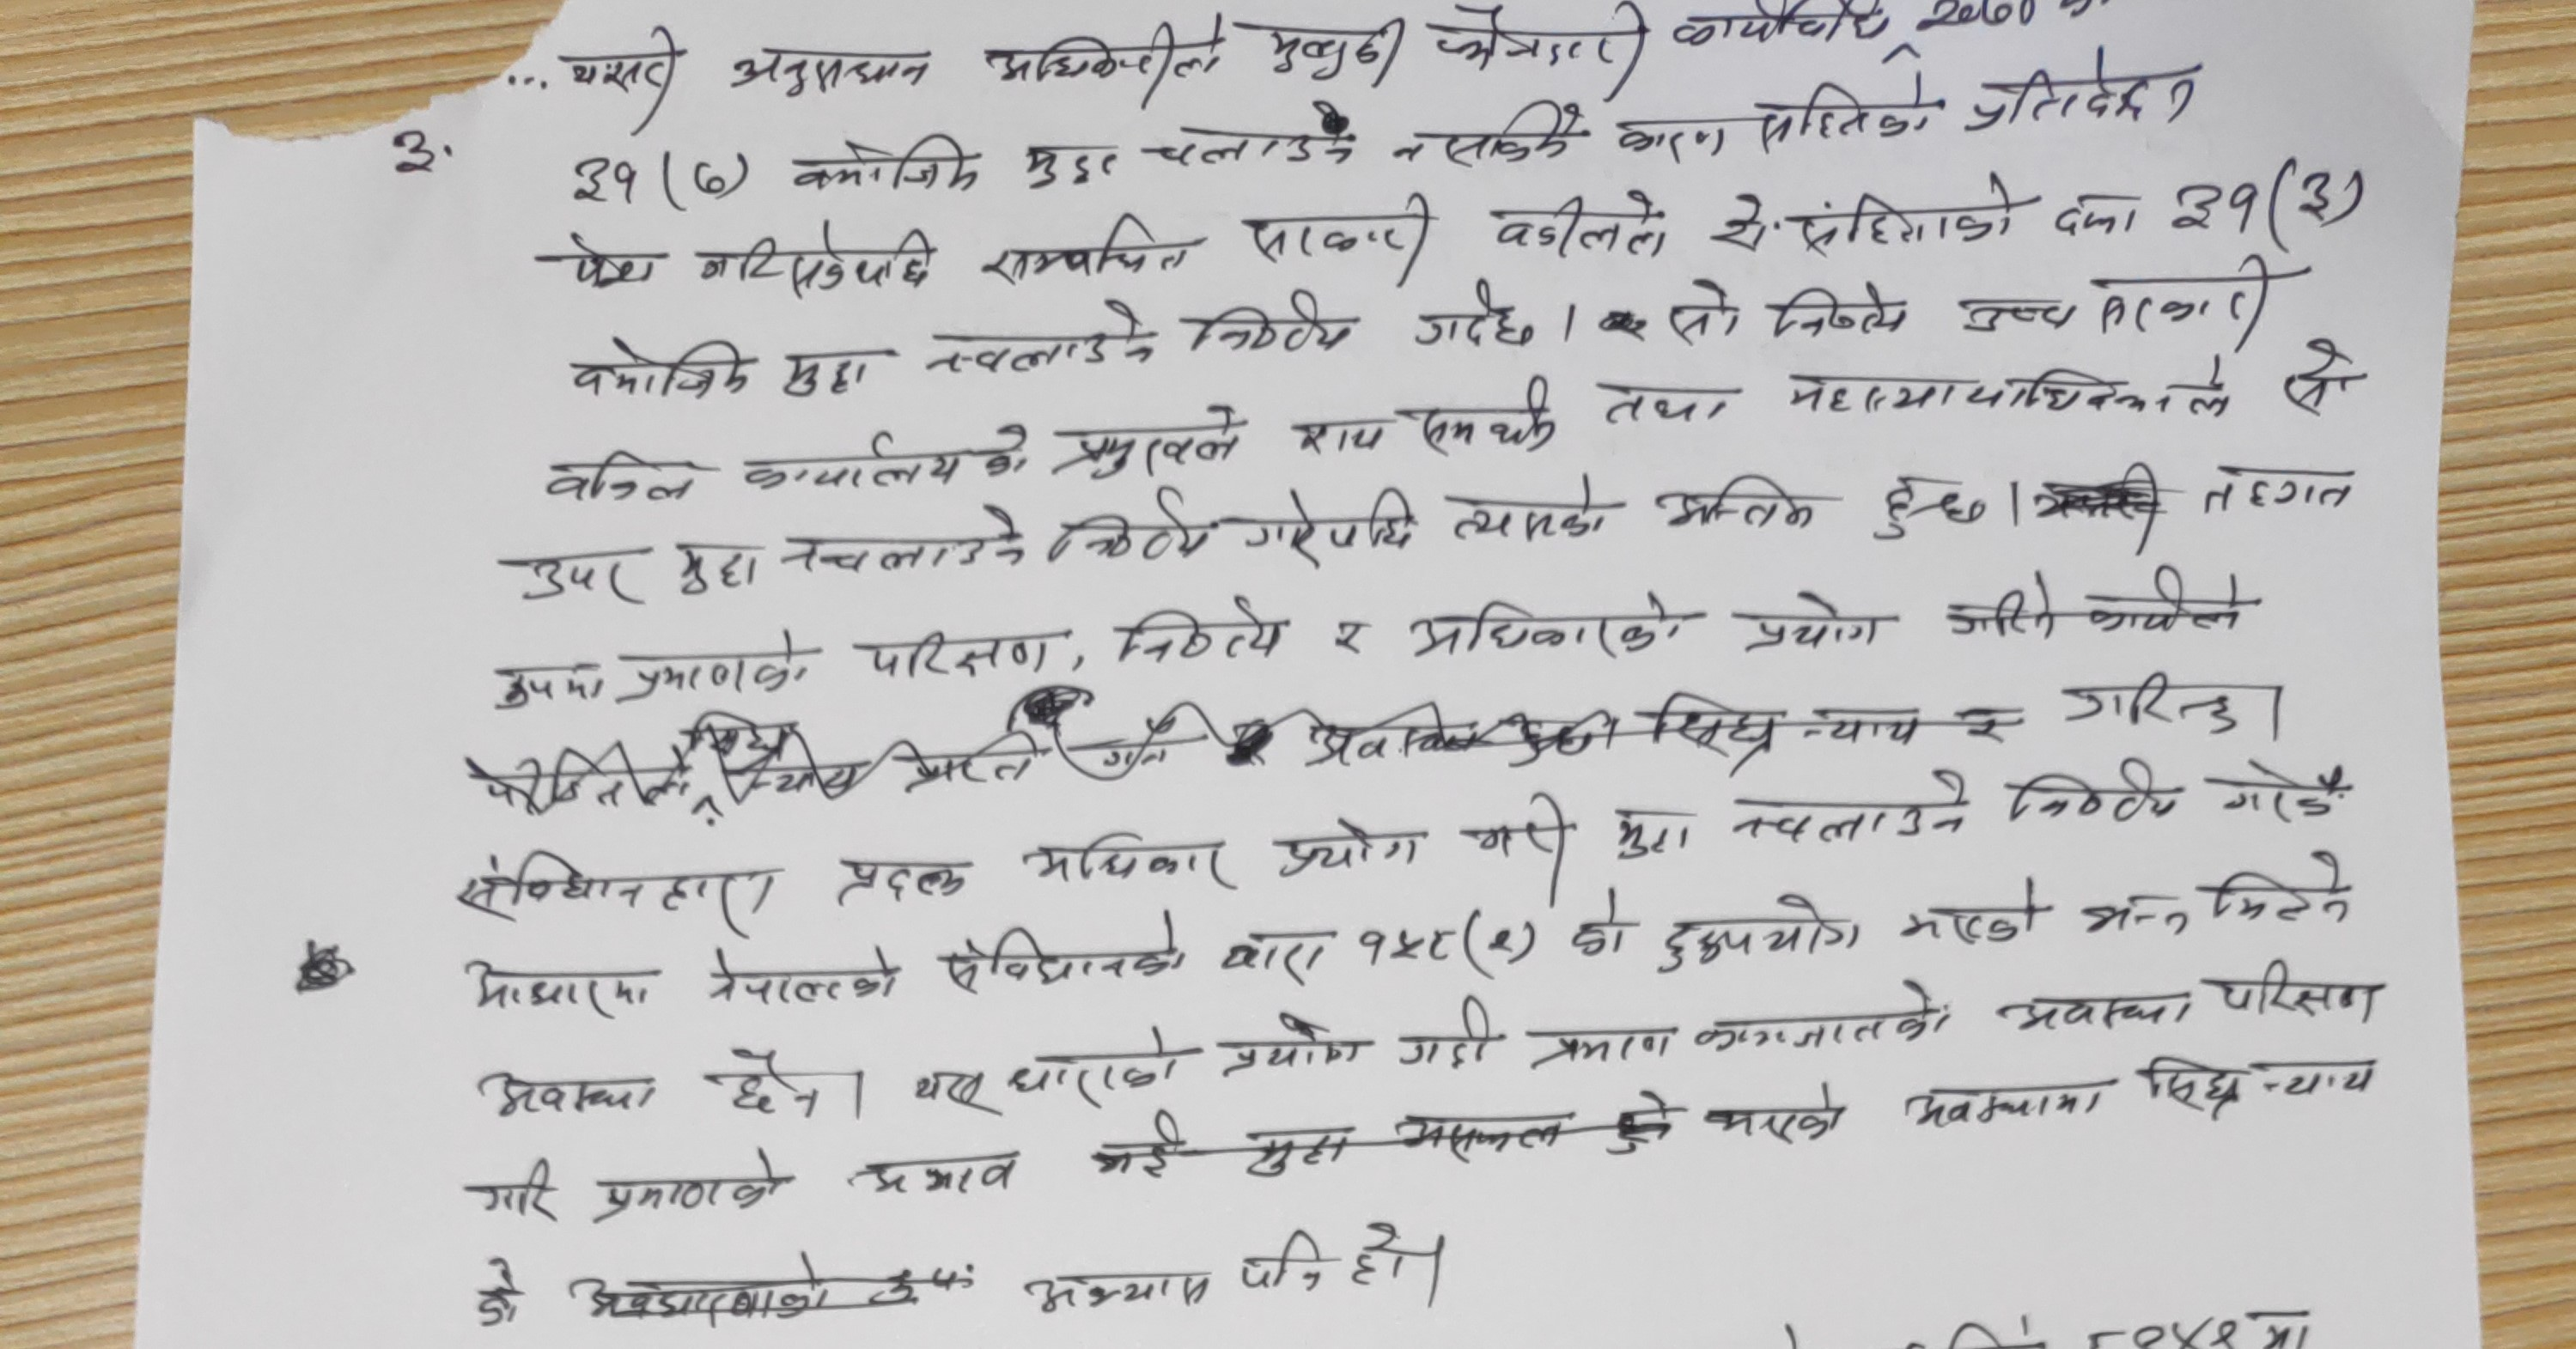text: (1784, 347, 2234, 426), (457, 845, 780, 935), (1956, 39, 2201, 145), (734, 419, 1034, 496), (978, 10, 1225, 99), (1726, 763, 1971, 850), (939, 913, 1199, 993), (1789, 169, 2024, 257), (1690, 978, 1956, 1054), (697, 218, 940, 301), (772, 499, 1032, 576), (2084, 249, 2274, 353), (917, 296, 1162, 376), (1411, 593, 1687, 663), (1654, 893, 1866, 983), (2133, 1044, 2390, 1116), (588, 1139, 787, 1230), (1003, 1019, 1187, 1112), (975, 210, 1201, 284), (1431, 3, 1649, 80), (1484, 184, 1678, 269), (1046, 399, 1244, 480), (1239, 187, 1431, 271), (1140, 100, 1360, 172), (1038, 480, 1218, 567), (1748, 75, 1937, 157), (1407, 368, 1562, 467), (618, 627, 813, 705), (2005, 753, 2191, 835), (1387, 97, 1586, 172), (1233, 484, 1419, 564), (697, 942, 901, 1012), (1015, 828, 1240, 891), (2206, 954, 2385, 1032), (457, 950, 649, 1022), (785, 131, 992, 198), (1113, 591, 1288, 668), (1446, 467, 1613, 547), (562, 332, 756, 400), (727, 39, 935, 102), (2206, 845, 2356, 932), (1179, 288, 1356, 361), (470, 1061, 659, 1126), (1900, 1076, 2107, 1133), (1895, 870, 2043, 949), (1670, 2, 1896, 53), (1017, 1262, 1216, 1320), (1210, 1012, 1375, 1082), (1256, 15, 1412, 87), (1988, 986, 2199, 1039), (1646, 468, 1820, 531), (1264, 814, 1424, 882), (1469, 785, 1573, 889), (1412, 273, 1544, 354), (537, 446, 702, 508), (1699, 1085, 1847, 1153), (2198, 458, 2358, 521), (2217, 756, 2349, 831), (1745, 588, 1883, 659), (860, 627, 1053, 678), (562, 26, 687, 104), (1389, 990, 1503, 1075), (1763, 281, 1912, 344), (1525, 1017, 1680, 1076), (1591, 371, 1734, 434), (1871, 472, 1993, 545), (716, 1044, 826, 1124), (503, 543, 639, 608), (848, 1151, 1015, 1204), (831, 853, 976, 910), (2075, 881, 2196, 947), (1220, 927, 1337, 993), (559, 221, 659, 295), (2273, 334, 2358, 417), (1608, 114, 1736, 169), (469, 1155, 569, 1221), (487, 659, 605, 715), (2169, 172, 2261, 244), (1242, 1228, 1327, 1303), (770, 342, 874, 404), (1956, 286, 2075, 339), (673, 533, 765, 601), (1666, 278, 1748, 353), (1354, 913, 1453, 974), (1015, 140, 1123, 196), (906, 1061, 998, 1126), (564, 148, 646, 216), (1603, 802, 1688, 867), (1344, 1223, 1417, 1293), (1707, 186, 1774, 259), (467, 1254, 532, 1327), (1569, 881, 1629, 957), (2051, 189, 2143, 238), (1291, 414, 1392, 458), (2288, 164, 2334, 227), (685, 150, 731, 210), (1331, 611, 1368, 663), (1484, 921, 1518, 956)
